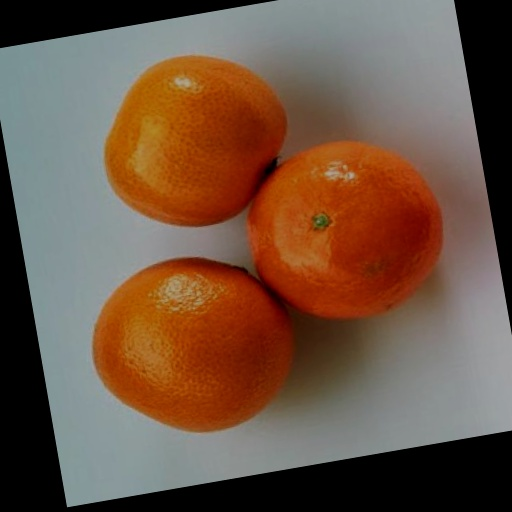fruit: (92, 258, 292, 432), (247, 142, 442, 318), (104, 56, 286, 225)
